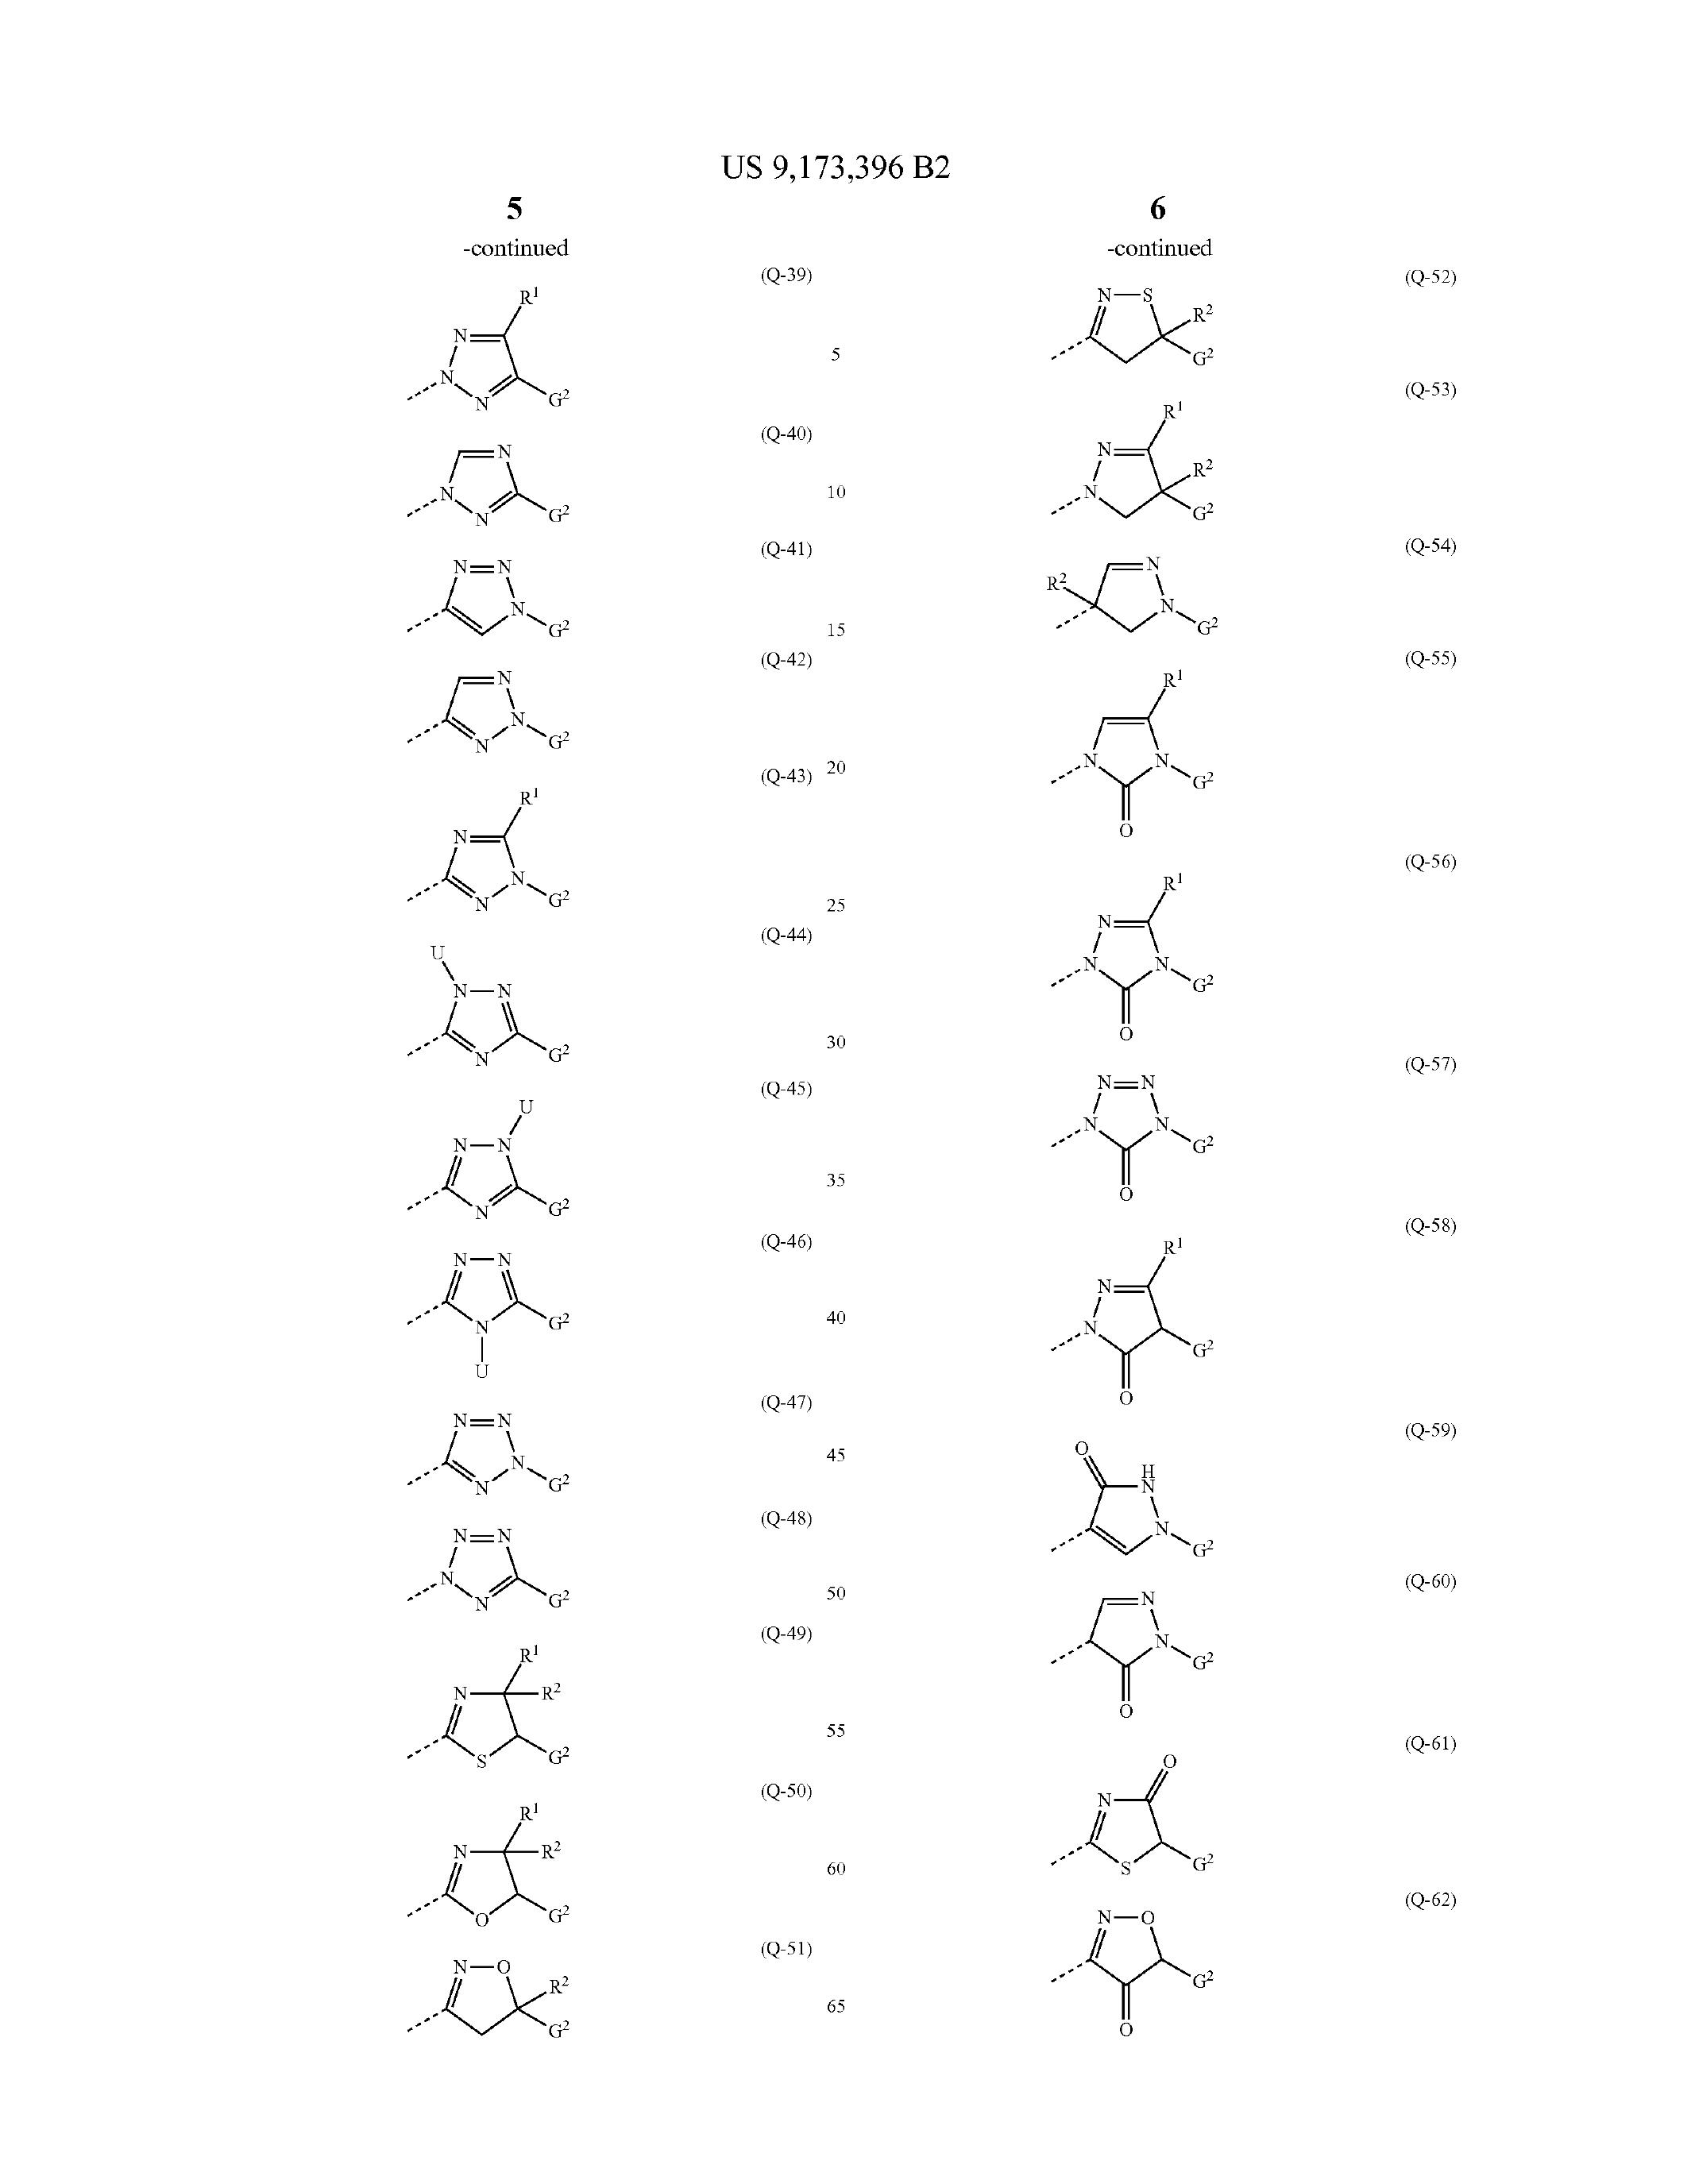substitutes: (371, 1627, 667, 1780), (1048, 1221, 1218, 1402), (465, 596, 601, 617)
